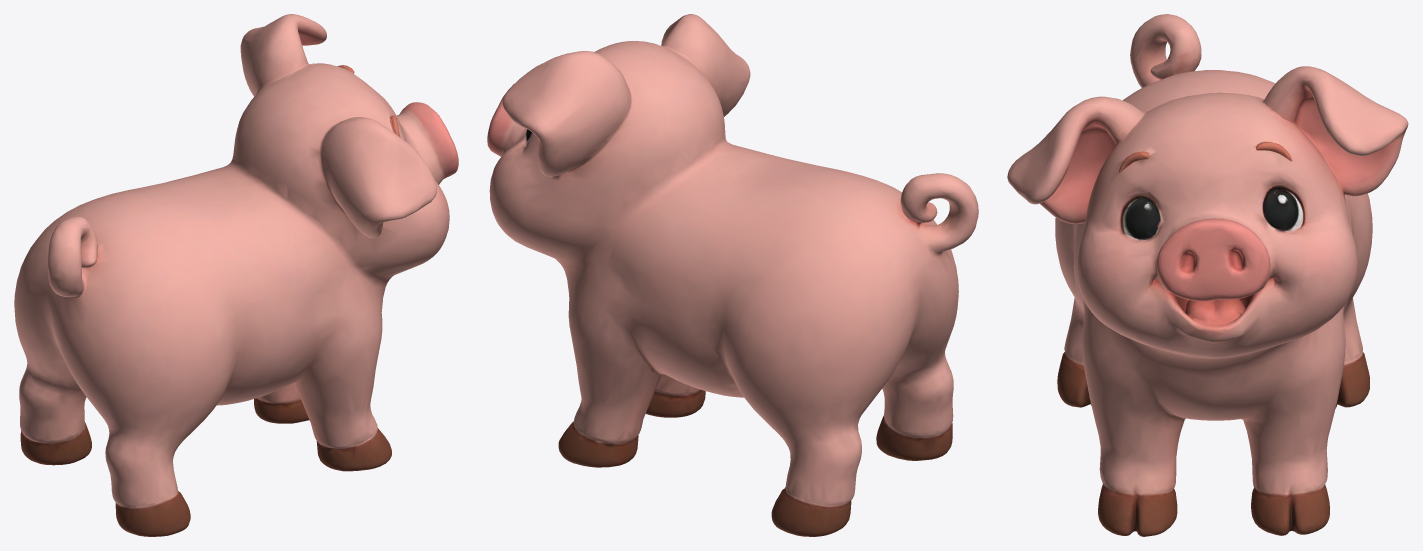
The model's file is pig.glb.
3 renders of one model, left to right at view 1: azimuth 30°, elevation 25°; view 2: azimuth 150°, elevation 25°; view 3: azimuth 270°, elevation 25°, orthographic. The views are drawn at different scales.
Parts seen in each view (by area): view 1: tripo_node_aa4b5f4c-f1b4-4293-989e-dc09849428ac; view 2: tripo_node_aa4b5f4c-f1b4-4293-989e-dc09849428ac; view 3: tripo_node_aa4b5f4c-f1b4-4293-989e-dc09849428ac.
Boxes of the visible parts, x1,y1,x2,y2 form: tripo_node_aa4b5f4c-f1b4-4293-989e-dc09849428ac: [14, 14, 458, 536]; tripo_node_aa4b5f4c-f1b4-4293-989e-dc09849428ac: [487, 14, 978, 536]; tripo_node_aa4b5f4c-f1b4-4293-989e-dc09849428ac: [1007, 14, 1408, 536].
Bounding box in the file's own units: 1 × 0.8812 × 0.7009.
1 material, 1 textured.
